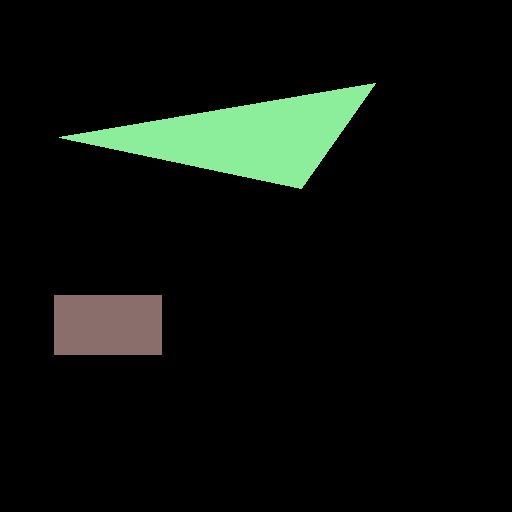rectangle: (54, 295, 161, 354)
triangle: (59, 83, 375, 188)
